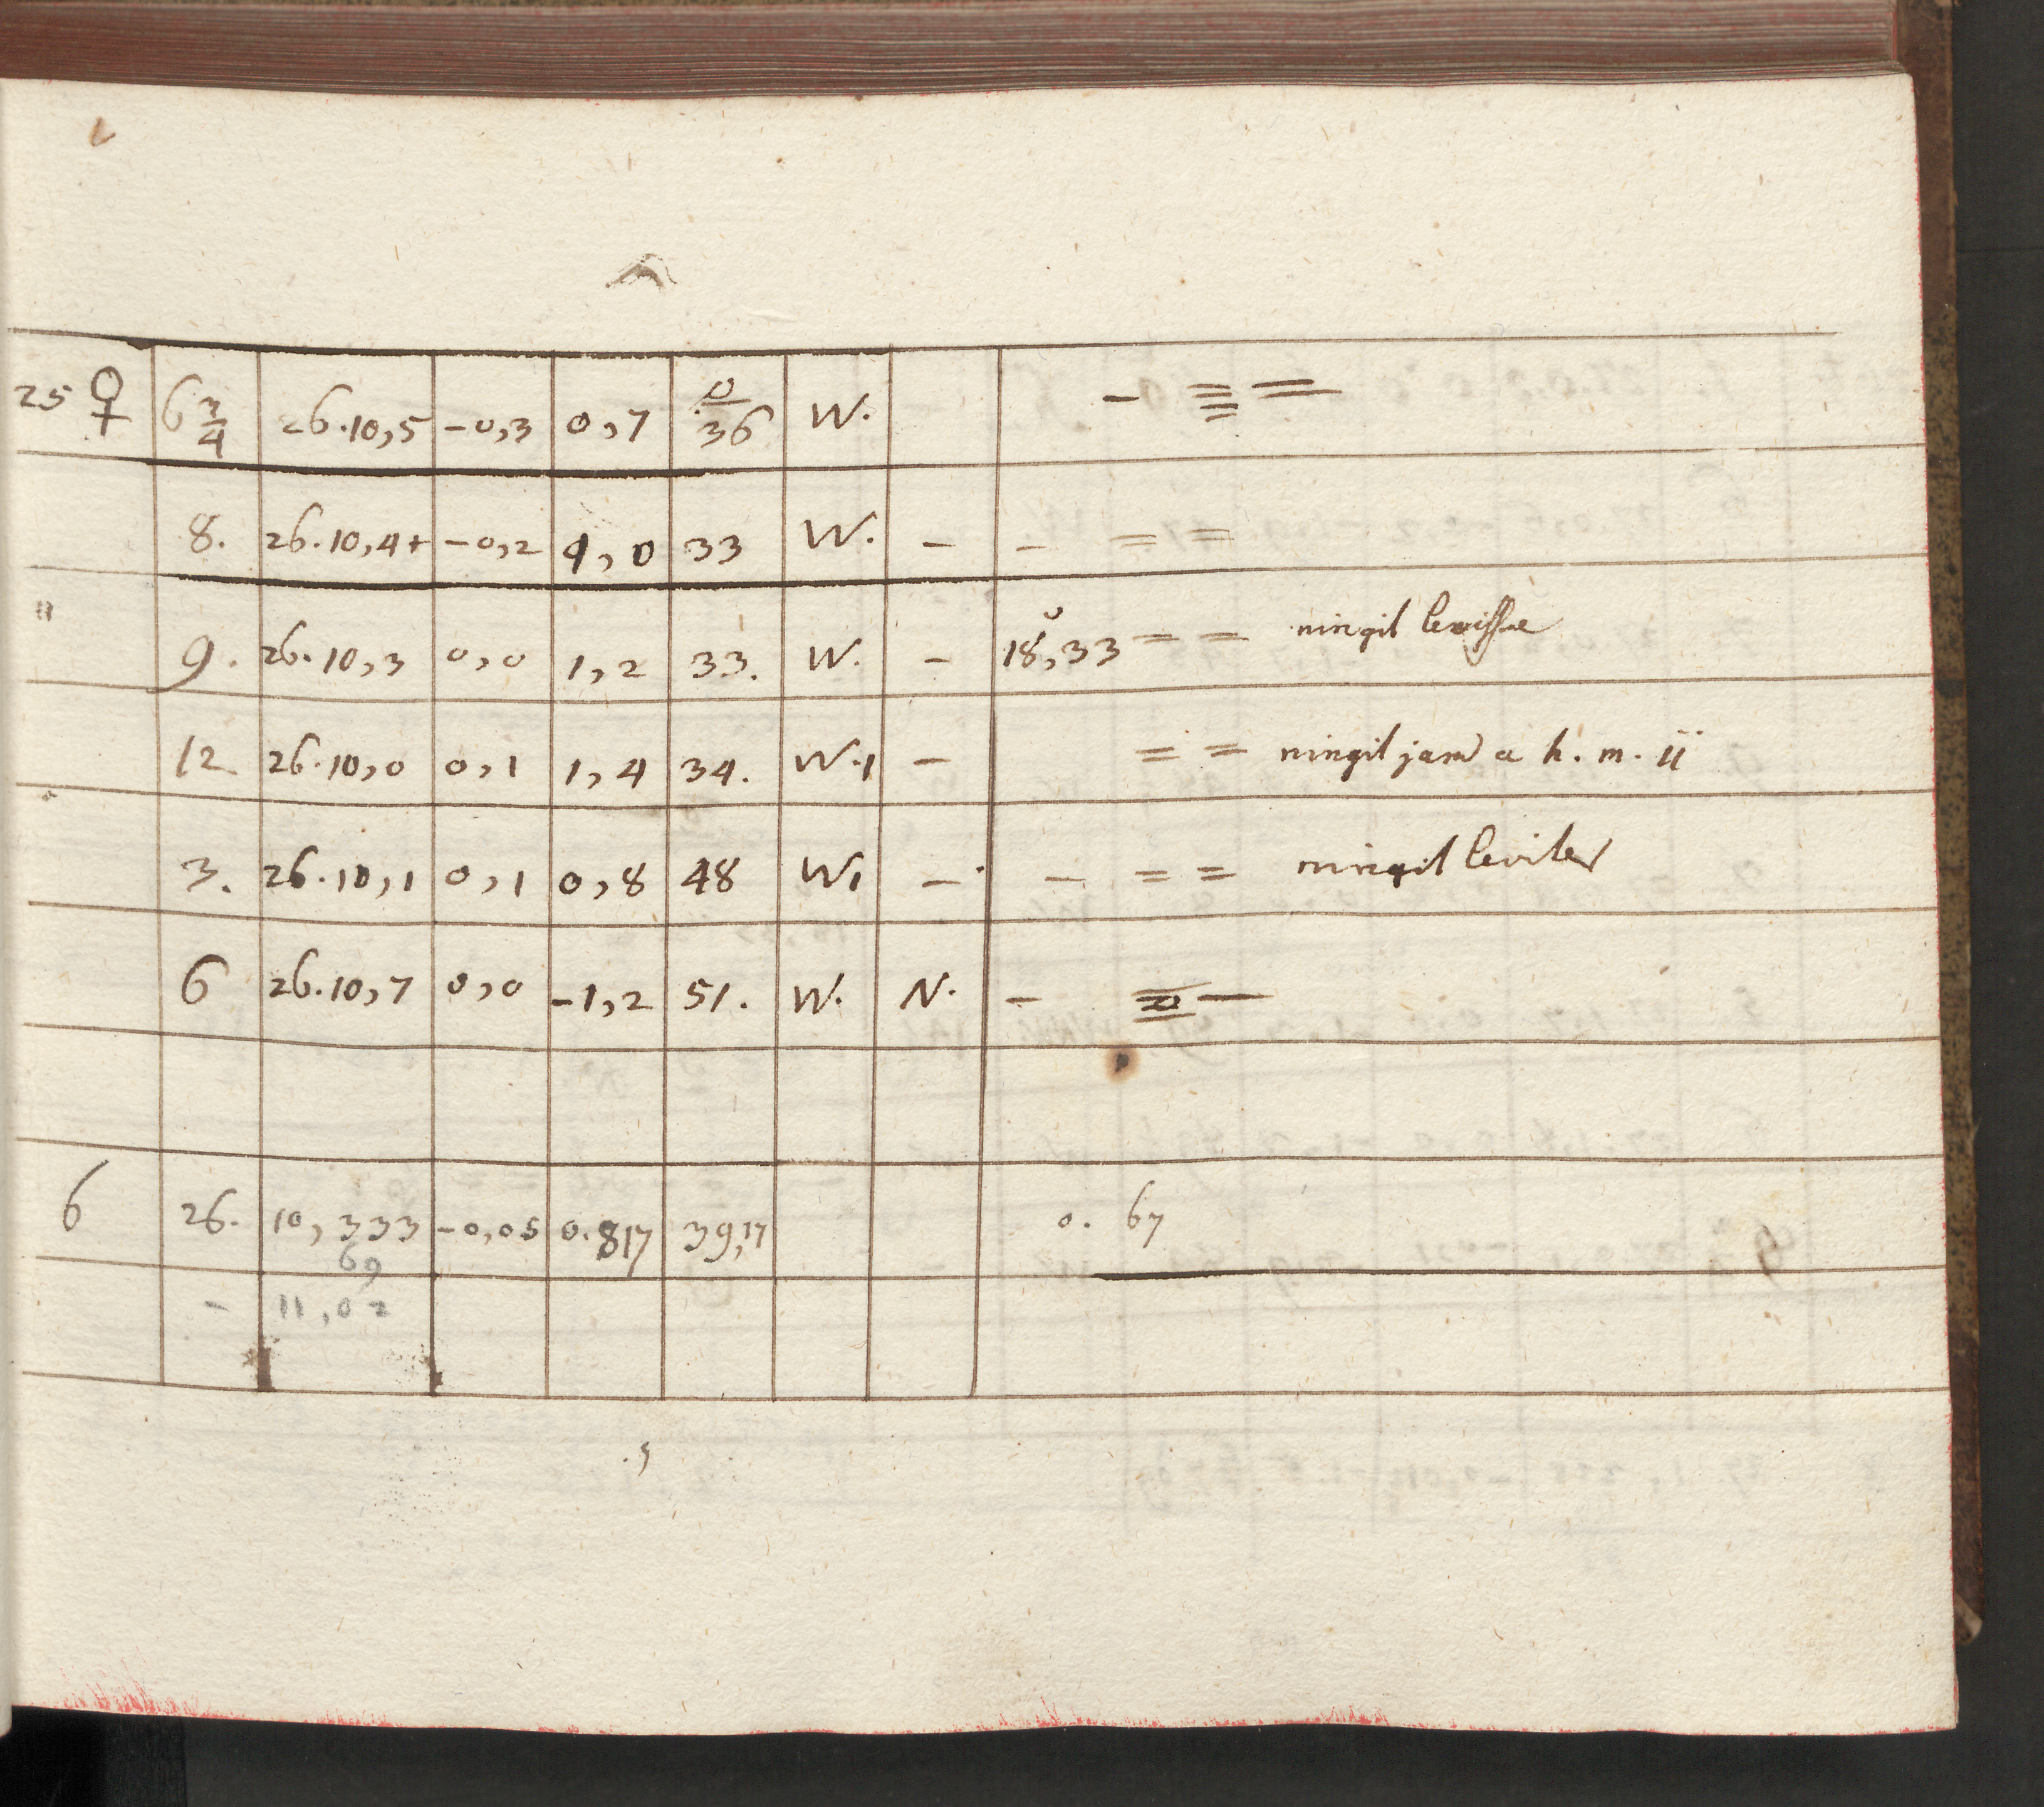bordered: (7, 333, 1929, 1397)
